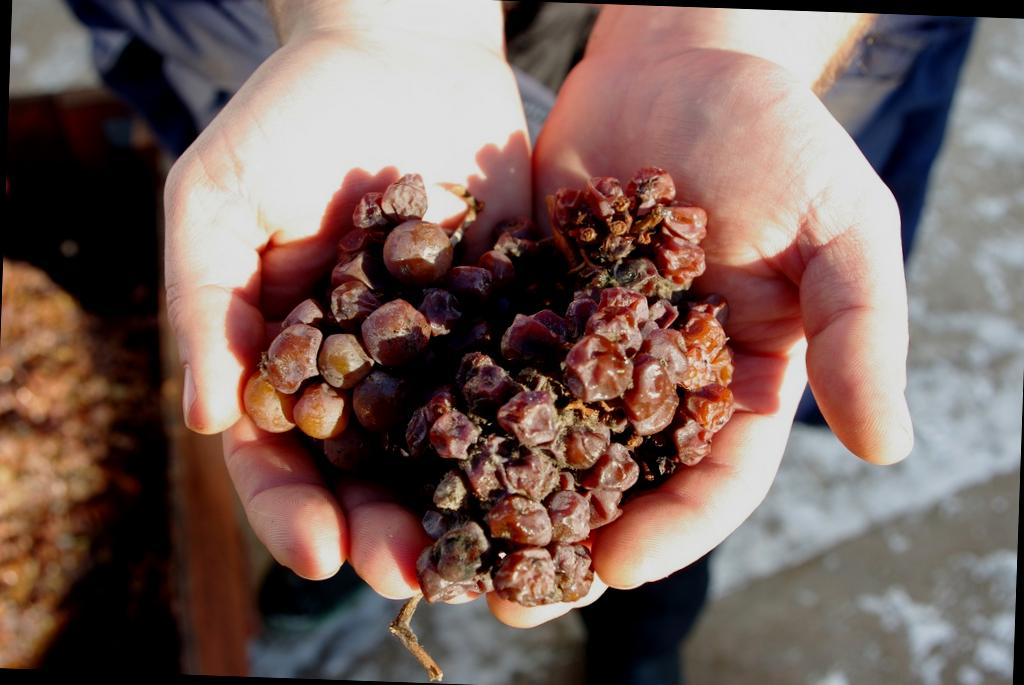Grape Rotten: (235, 150, 744, 617)
